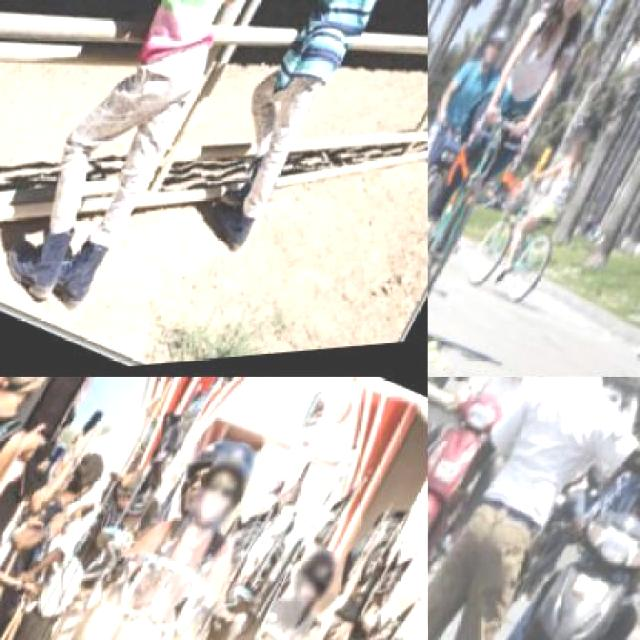With Helmet: (187, 445, 265, 540), (164, 434, 238, 528), (278, 550, 350, 636), (472, 18, 520, 80), (544, 0, 616, 37), (602, 377, 638, 423)
Without Helmet: (562, 130, 598, 176)
